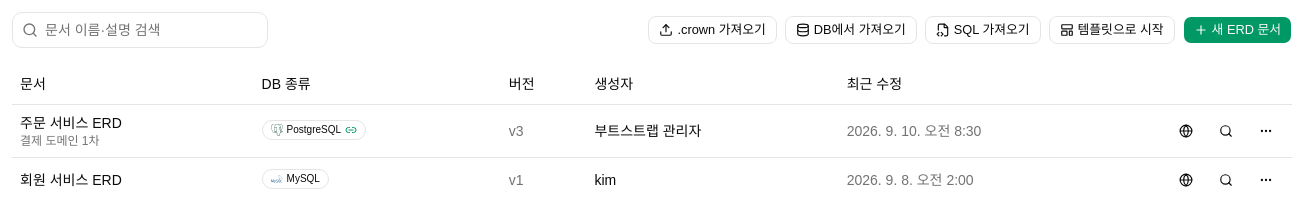
Test: ERD 탭 › hides the delete button for non-owner editors
The width and height of the screenshot is (1304, 206).
Expected: the button "주문 서비스 ERD" is shown, [20,112,122,132]
// then: Editor는 수정만 가능 — 행 작업 메뉴에 삭제가 없다
Click the button named "주문 서비스 ERD 문서 작업": (1266, 130) [1248,116,1284,144]
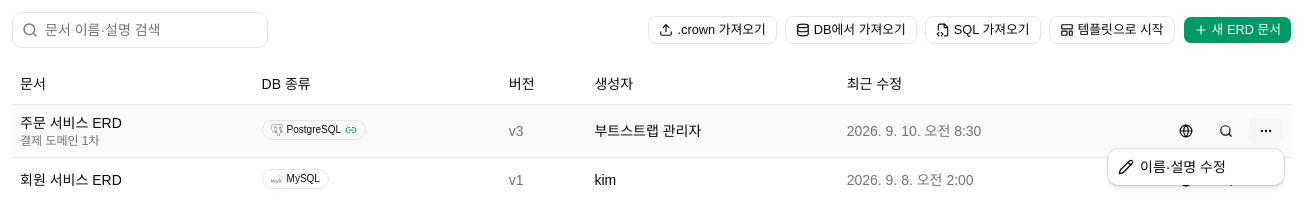
Result: the menu item "이름·설명 수정" is shown at [1118,159,1226,175]
